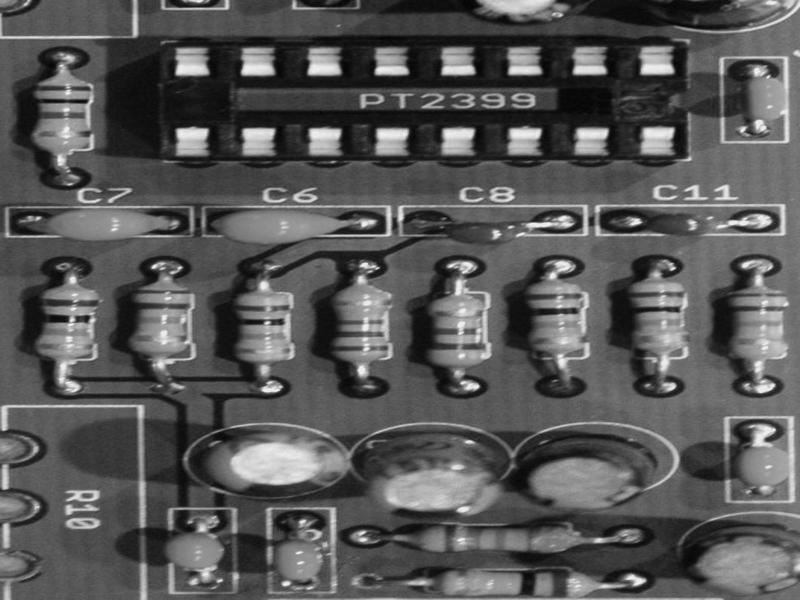Capacitor: (360, 430, 506, 522), (187, 422, 352, 502), (513, 433, 660, 516), (678, 521, 800, 600)
Resistor: (402, 518, 591, 560), (324, 274, 398, 379), (410, 561, 606, 600), (719, 273, 792, 374), (26, 63, 98, 164), (30, 278, 103, 376), (122, 274, 195, 371), (622, 271, 691, 372), (419, 283, 490, 381), (521, 272, 591, 371), (228, 279, 294, 377)
